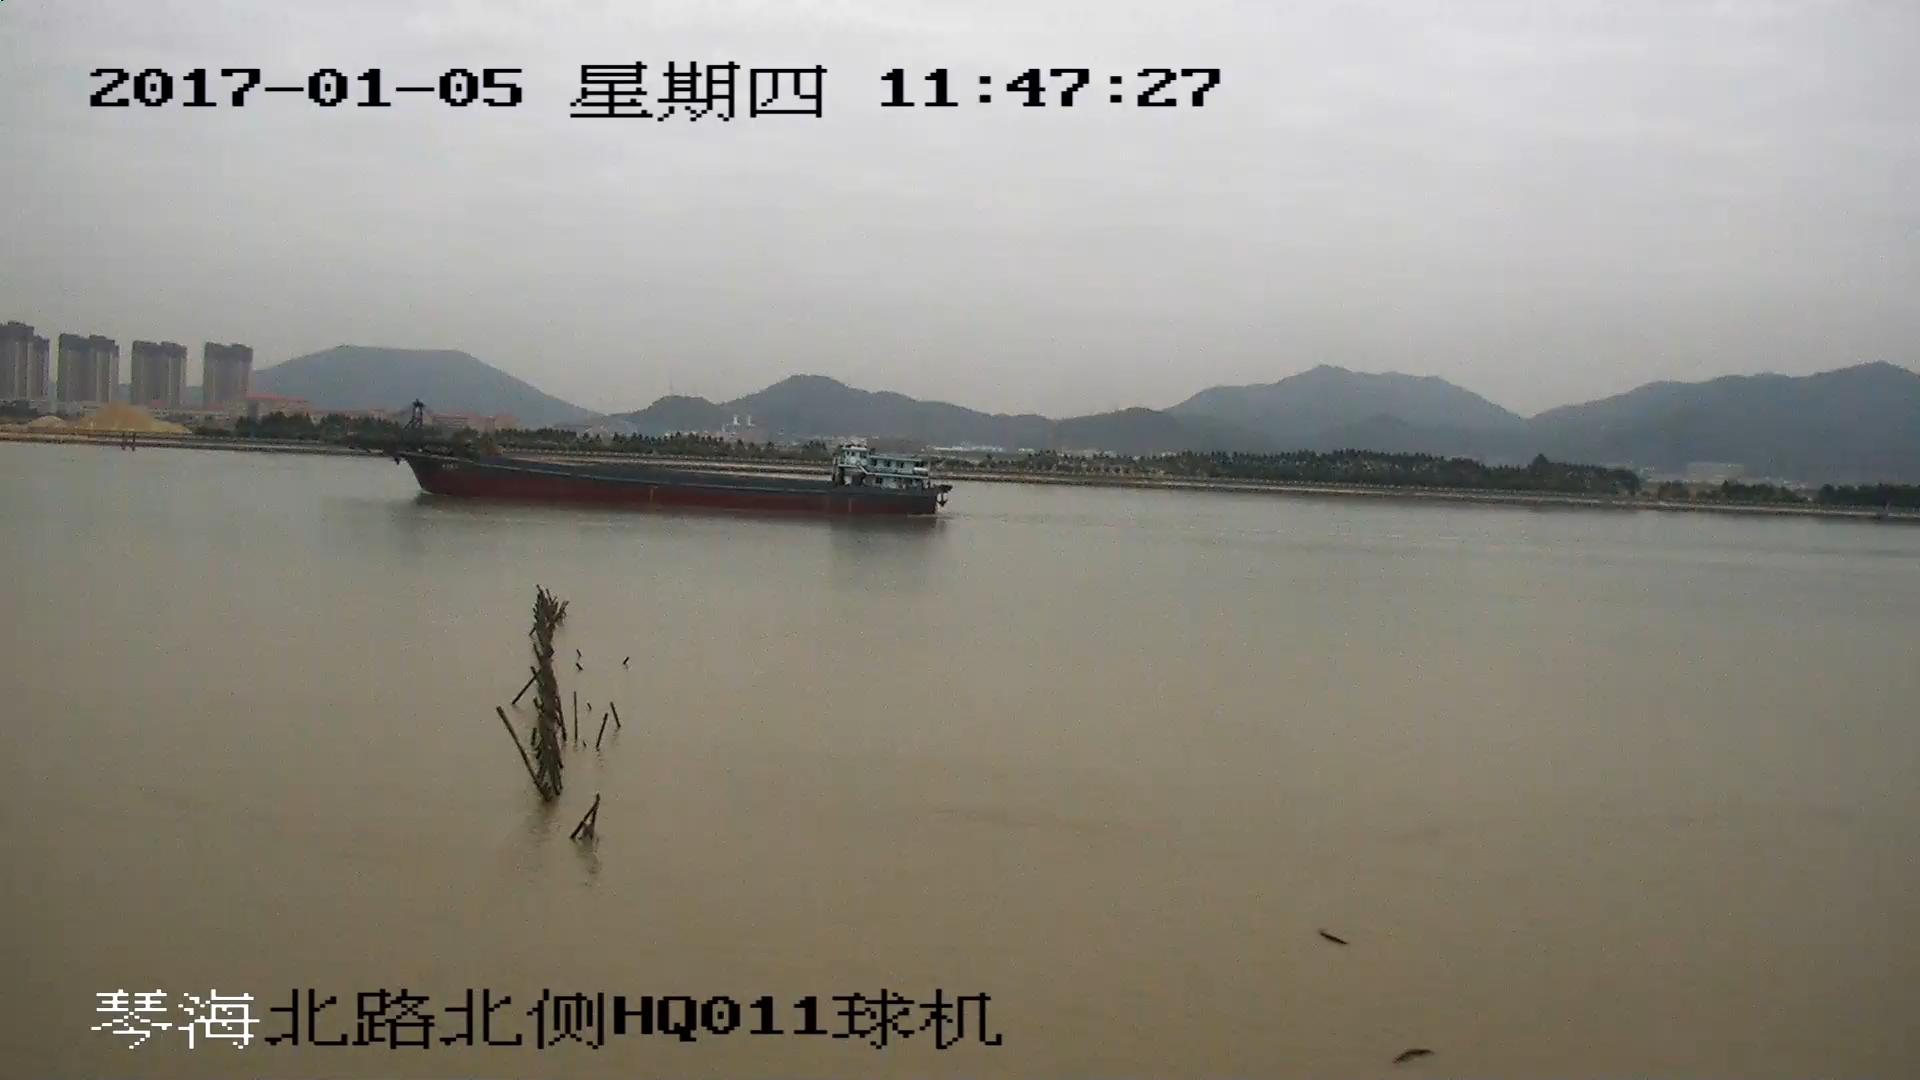bulk cargo carrier: (334, 405, 951, 520)
